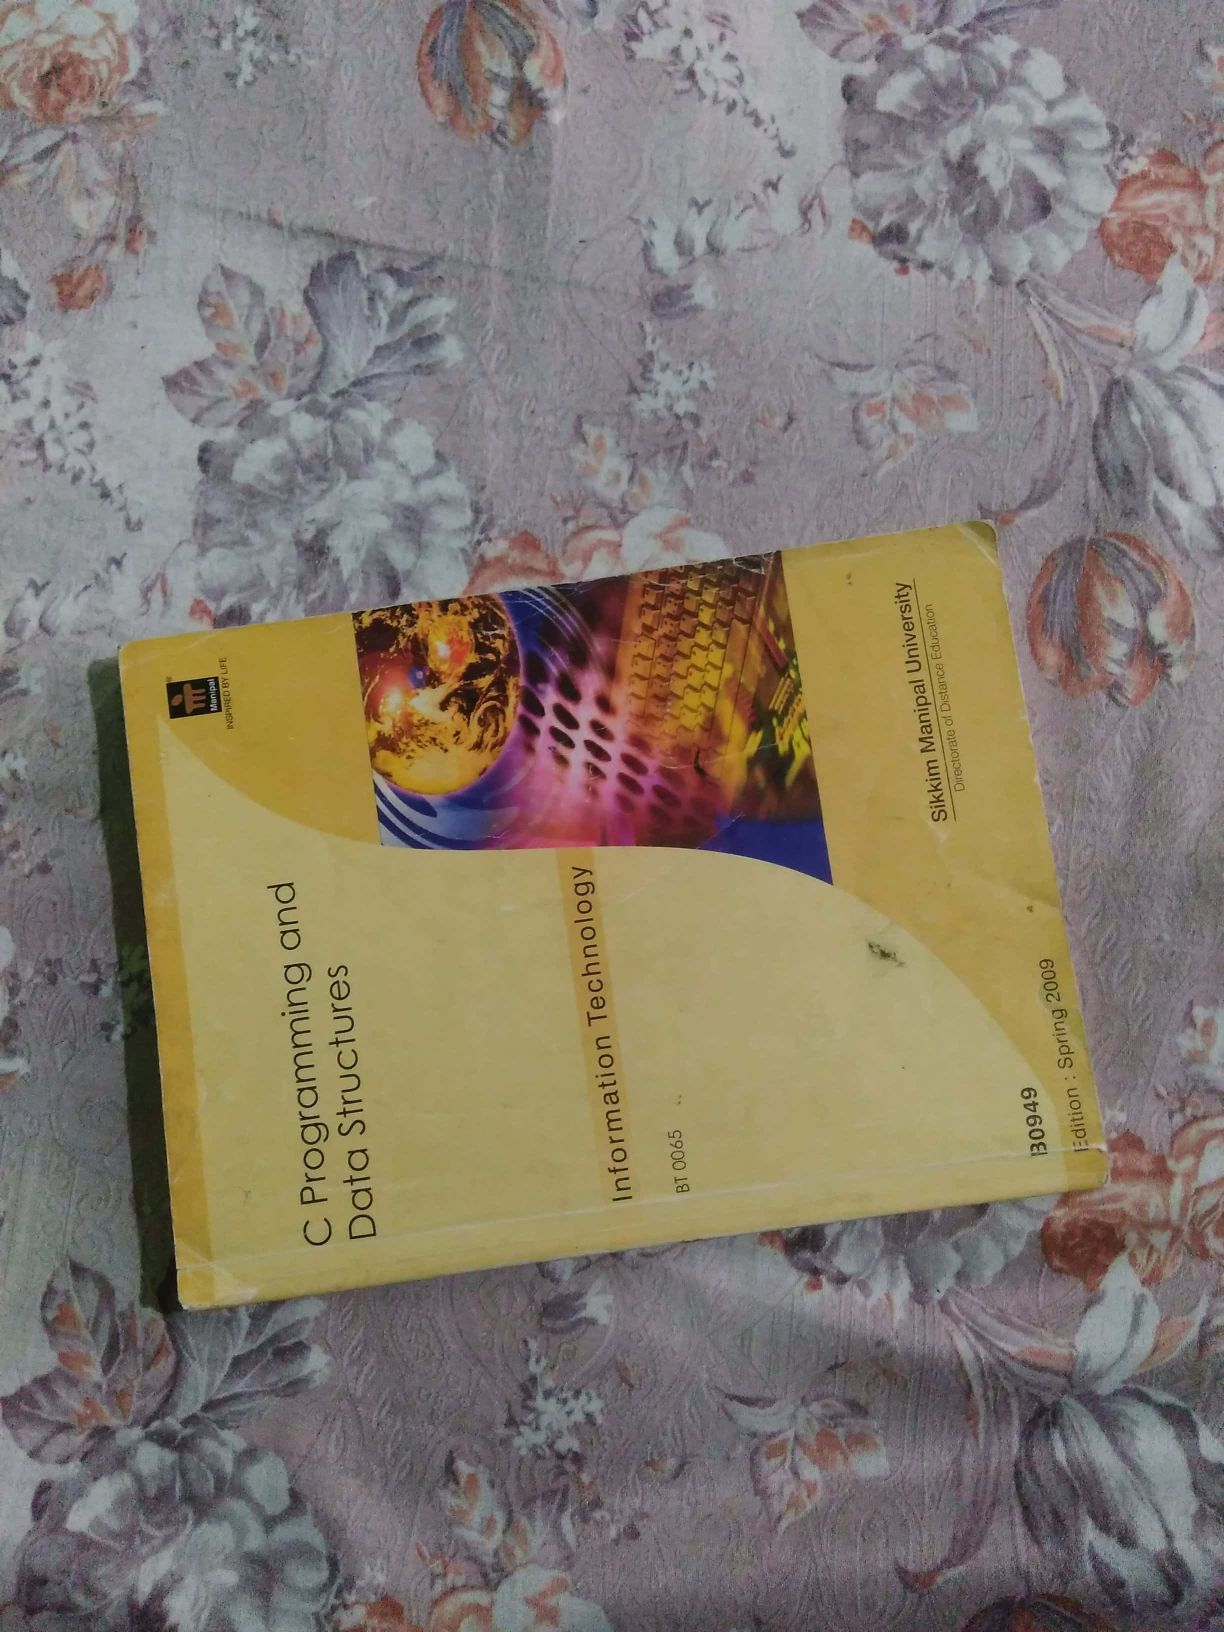clang: (122, 549, 1128, 1318)
